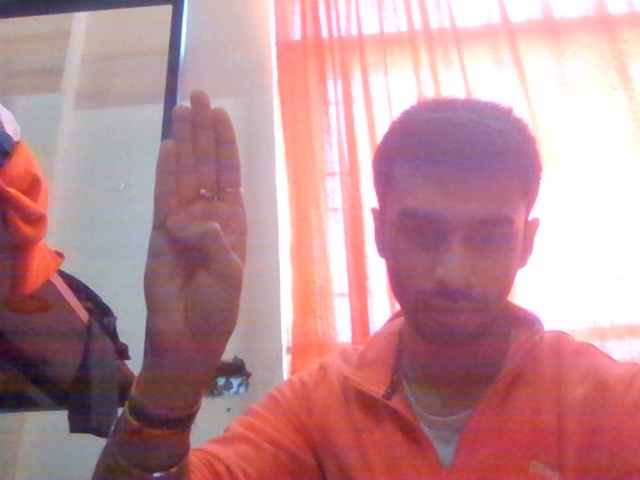B: (127, 73, 281, 385)
